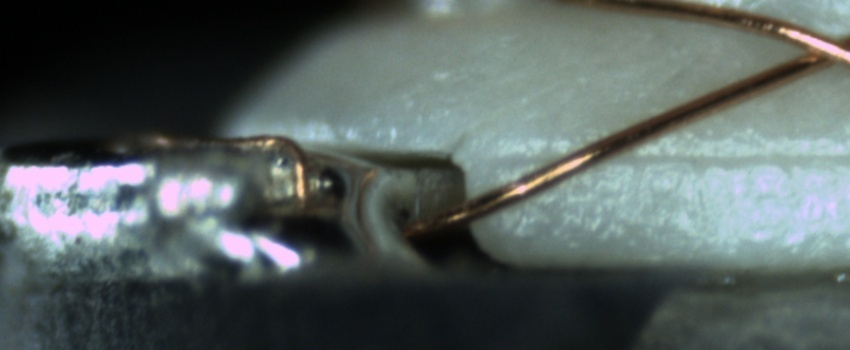CL: (779, 20, 849, 75)
DL: (499, 128, 849, 191)
TE: (139, 129, 317, 220)
